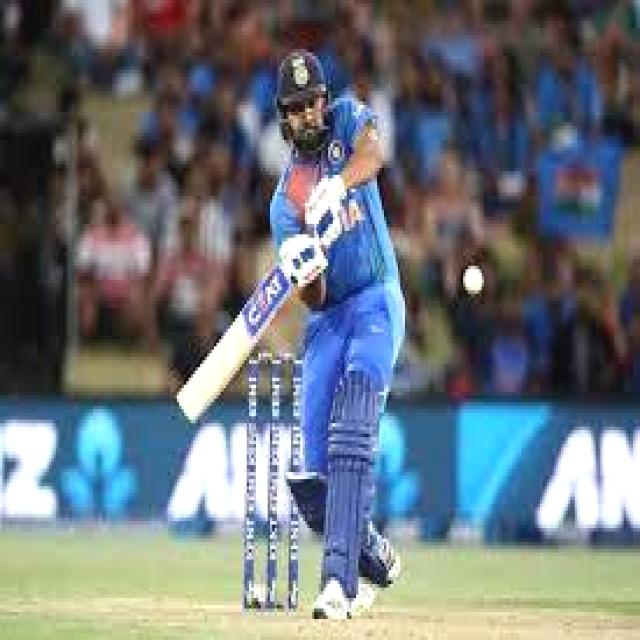toe: (169, 391, 200, 426)
